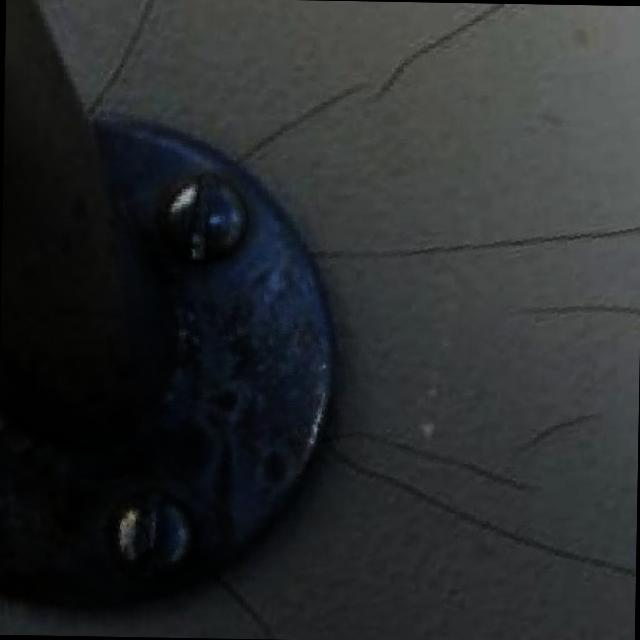crack: (349, 412, 567, 502), (302, 228, 628, 262), (527, 383, 608, 447), (512, 304, 638, 330)
